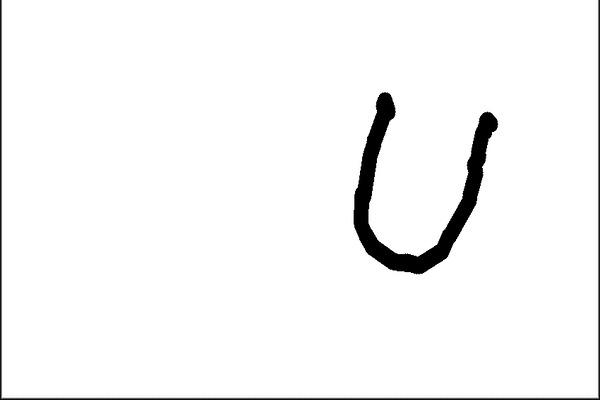U: (342, 86, 504, 278)
